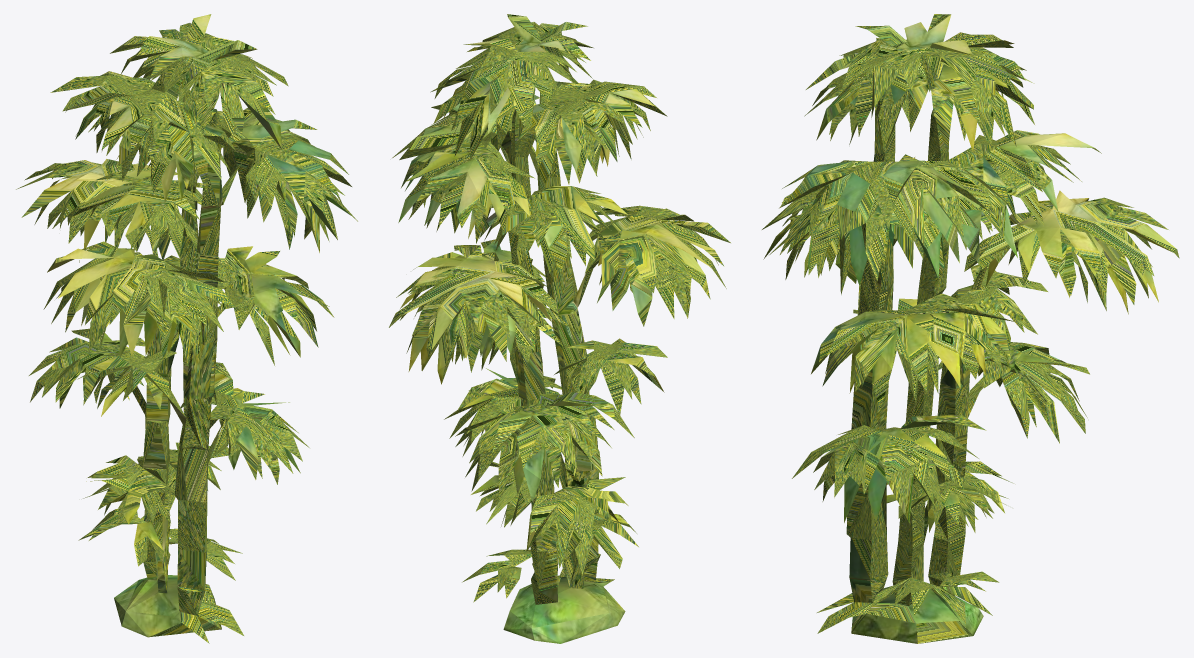
The model's file is bamboo-stalk.glb.
3 views of the same model, side by side, from view 1: azimuth 30°, elevation 25°; view 2: azimuth 150°, elevation 25°; view 3: azimuth 270°, elevation 25° (orthographic). The views are drawn at different scales.
Visible parts, largest first — view 1: mesh_uv.obj; view 2: mesh_uv.obj; view 3: mesh_uv.obj.
Part boxes in pixels (x1=…): mesh_uv.obj: x1=16, y1=14, x2=357, y2=643; mesh_uv.obj: x1=389, y1=14, x2=730, y2=643; mesh_uv.obj: x1=762, y1=14, x2=1179, y2=643.
Size of the model in its own units: 0.9805 by 1.79 by 1.12.
Materials: 1 (1 with a texture image).
